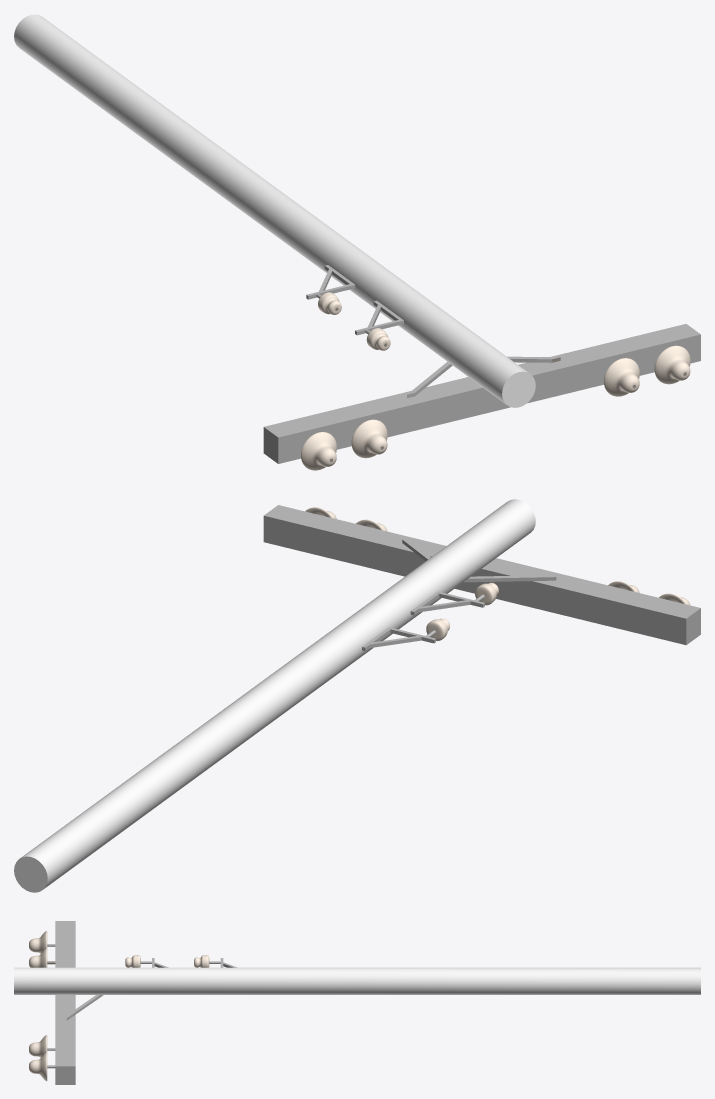
Rendered from elektr_2.obj.
The picture shows the model from 3 angles, top to bottom: view 1: azimuth 30°, elevation 25°; view 2: azimuth 150°, elevation 25°; view 3: azimuth 270°, elevation 25°; orthographic projection. The views are drawn at different scales.
Parts seen in each view (by area): view 1: ________0, ________1, ________7, ________4, ________5, ________6; view 2: ________0, ________1, ________8, ________9; view 3: ________0, ________1, ________4, ________5, ________6, ________7.
Part boxes in pixels (x1=…): ________0: x1=14, y1=14, x2=535, y2=407; ________1: x1=263, y1=324, x2=700, y2=463; ________7: x1=351, y1=419, x2=387, y2=458; ________4: x1=654, y1=345, x2=690, y2=384; ________5: x1=603, y1=358, x2=639, y2=396; ________6: x1=301, y1=432, x2=336, y2=470; ________0: x1=14, y1=499, x2=535, y2=892; ________1: x1=263, y1=505, x2=700, y2=645; ________8: x1=410, y1=591, x2=484, y2=615; ________9: x1=362, y1=627, x2=435, y2=651; ________0: x1=14, y1=967, x2=700, y2=994; ________1: x1=55, y1=921, x2=75, y2=1084; ________4: x1=29, y1=1052, x2=55, y2=1081; ________5: x1=29, y1=1035, x2=55, y2=1057; ________6: x1=29, y1=931, x2=55, y2=953; ________7: x1=29, y1=948, x2=55, y2=967.
Size of the model in its own units: 0.05 by 0.00811 by 0.1.
